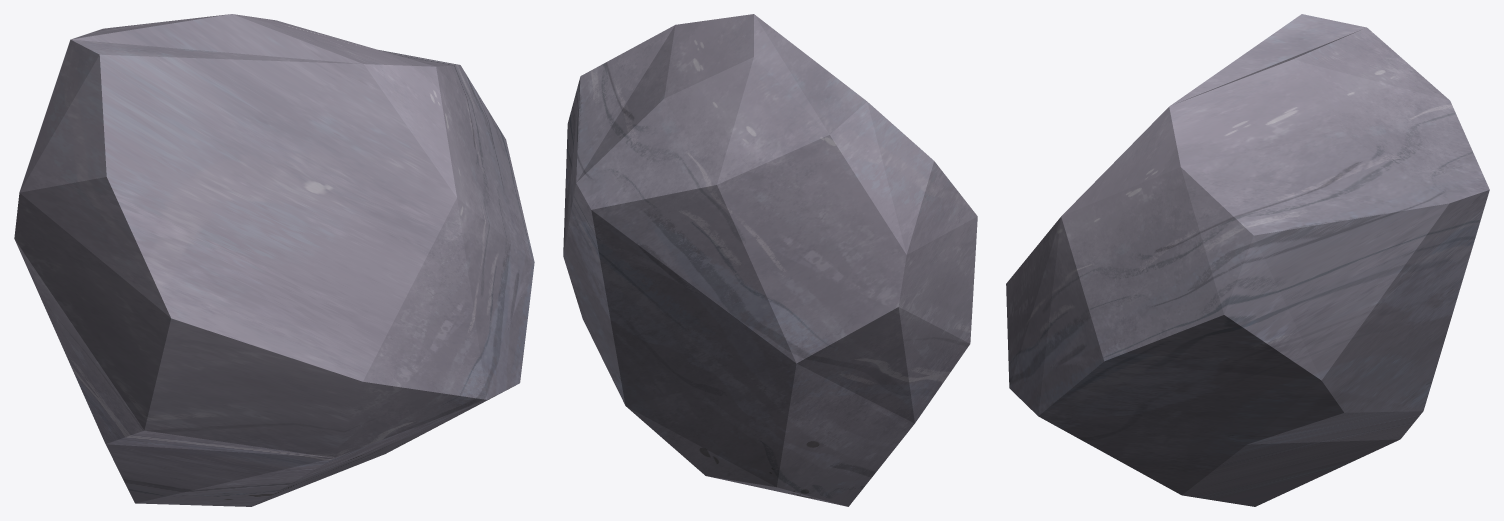
File: rock_2_011.fbx
3 views of the same model, side by side, from view 1: azimuth 30°, elevation 25°; view 2: azimuth 150°, elevation 25°; view 3: azimuth 270°, elevation 25° (orthographic). The views are drawn at different scales.
Parts seen in each view (by area): view 1: rock 2.011; view 2: rock 2.011; view 3: rock 2.011.
Part boxes in pixels (x1=…): rock 2.011: x1=14, y1=14, x2=534, y2=506; rock 2.011: x1=563, y1=14, x2=977, y2=506; rock 2.011: x1=1006, y1=14, x2=1489, y2=506.
Bounding box in the file's own units: 342 × 367 × 359.
